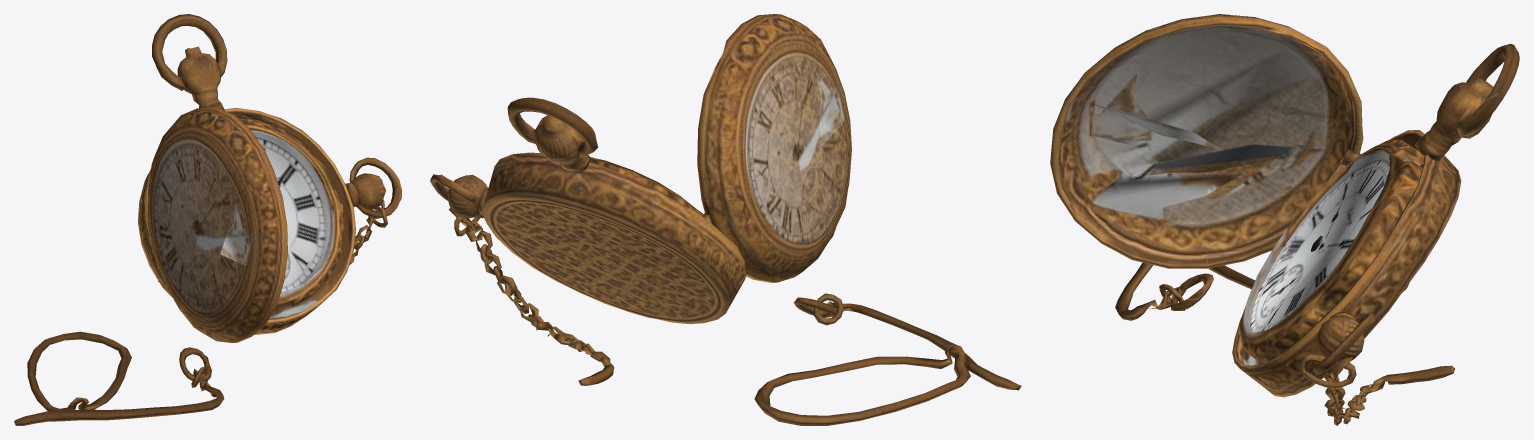
File: pocket_watch.glb
3 renders of one model, left to right at view 1: azimuth 30°, elevation 25°; view 2: azimuth 150°, elevation 25°; view 3: azimuth 270°, elevation 25°, orthographic. The views are drawn at different scales.
Bounding box in the file's own units: 0.9551 × 0.544 × 0.6743.
1 material, 1 textured.
